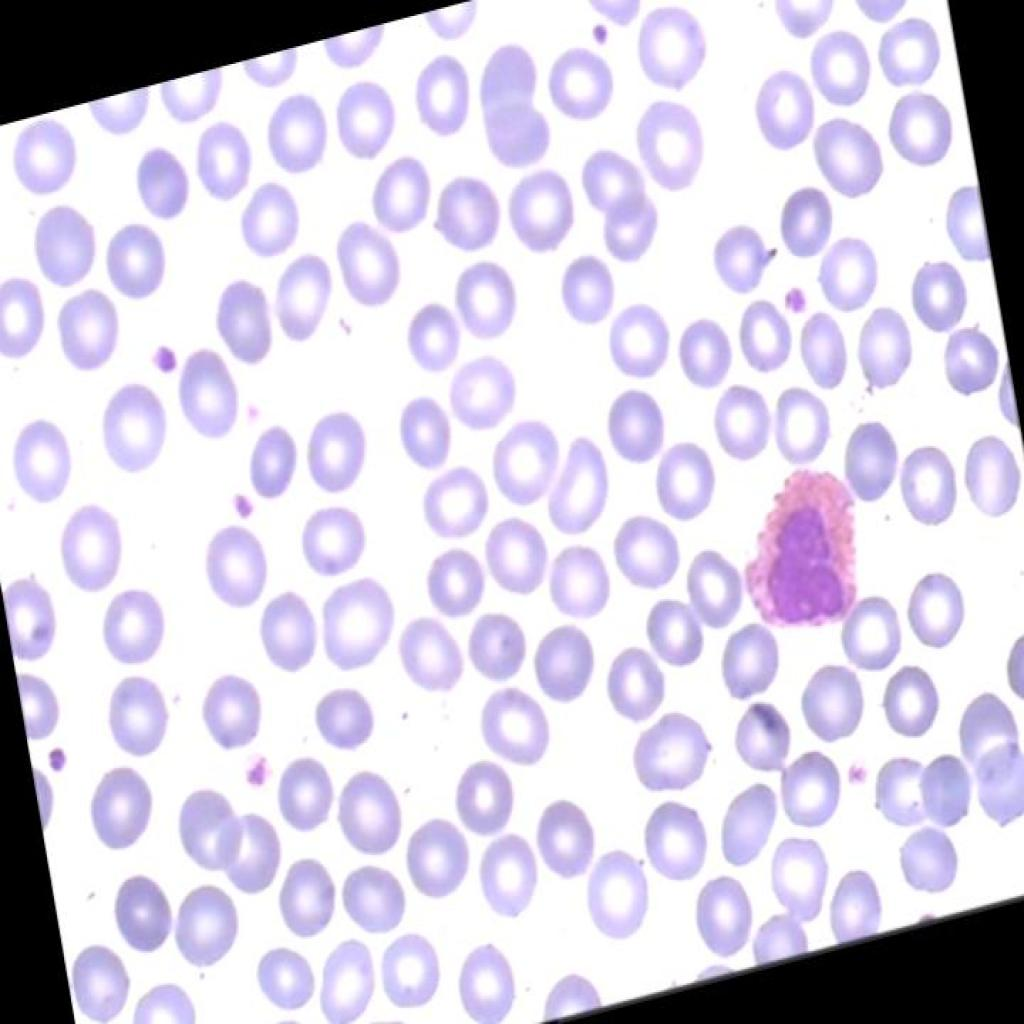Eosinofil: (716, 435, 878, 665)
Platelet: (34, 724, 78, 796), (222, 480, 267, 539), (776, 272, 824, 325), (22, 614, 70, 660), (580, 5, 618, 59), (236, 746, 270, 802), (145, 330, 181, 380), (836, 752, 868, 805)
